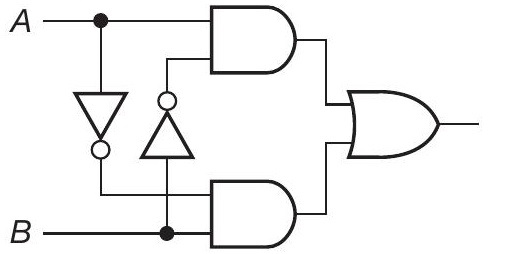and: (202, 173, 303, 253), (202, 1, 303, 81)
not: (68, 83, 133, 164), (136, 85, 198, 164)
or: (340, 82, 446, 167)
